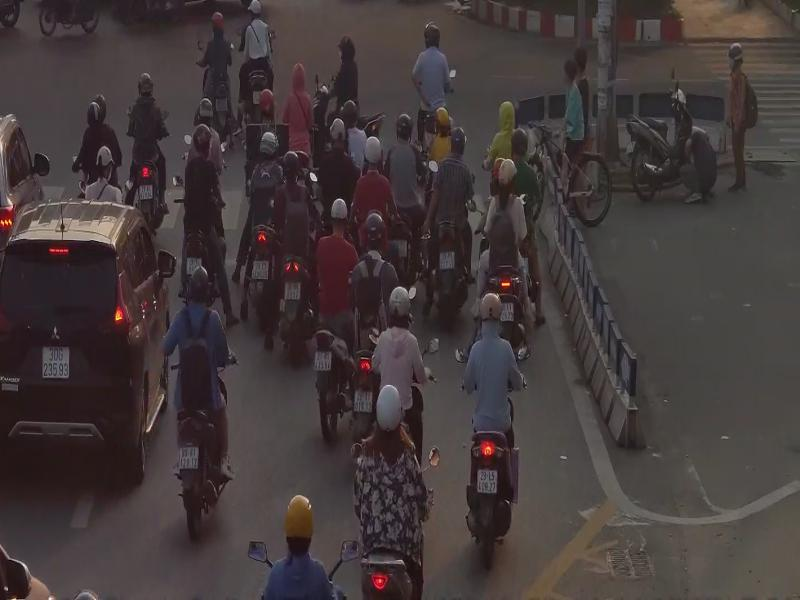helmet: (374, 384, 404, 437), (284, 493, 314, 545), (478, 288, 503, 325), (389, 285, 410, 323), (364, 211, 386, 247), (188, 266, 210, 295), (193, 122, 211, 154), (97, 145, 117, 173), (499, 158, 518, 187), (260, 128, 278, 158), (364, 135, 382, 164), (511, 125, 528, 155), (136, 70, 155, 96), (396, 112, 414, 138), (259, 87, 274, 115), (435, 107, 451, 133), (727, 41, 743, 67), (424, 22, 440, 47), (86, 100, 102, 124), (284, 152, 300, 176), (450, 126, 466, 149), (342, 98, 358, 121), (333, 200, 348, 224), (331, 117, 346, 141), (338, 34, 354, 55), (95, 94, 108, 118), (200, 99, 213, 119), (247, 0, 261, 17), (212, 13, 224, 32)
license_plate: (44, 342, 70, 380), (180, 444, 198, 471), (478, 468, 496, 492), (356, 390, 374, 413), (253, 260, 269, 280), (316, 352, 331, 371), (286, 283, 301, 300), (440, 252, 455, 268), (139, 184, 153, 200)
motorcyclist: (353, 376, 441, 597), (167, 269, 231, 544), (464, 288, 524, 571), (180, 121, 234, 333), (315, 191, 358, 432), (430, 124, 473, 325), (280, 146, 320, 360), (246, 128, 284, 347), (128, 67, 169, 239), (198, 9, 235, 148)
